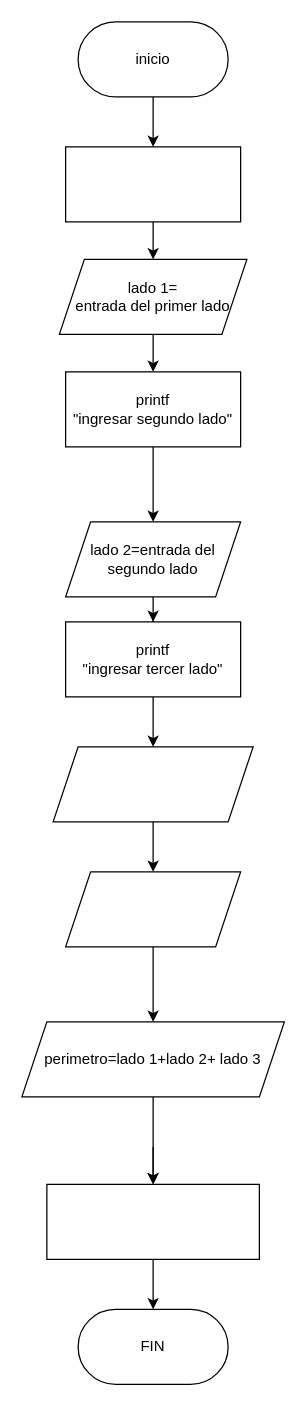
This 306x1406 diagram has some shape labels left out. Each missing label, with the box of its shape:
lado 3=entrada del tercer lado: (52, 746, 253, 822)
printf "ingresar primer lado": (64, 146, 241, 222)
printf el perimetro es: %d cm,perimetro: (46, 1183, 259, 1259)
system "cls": (64, 871, 241, 947)
